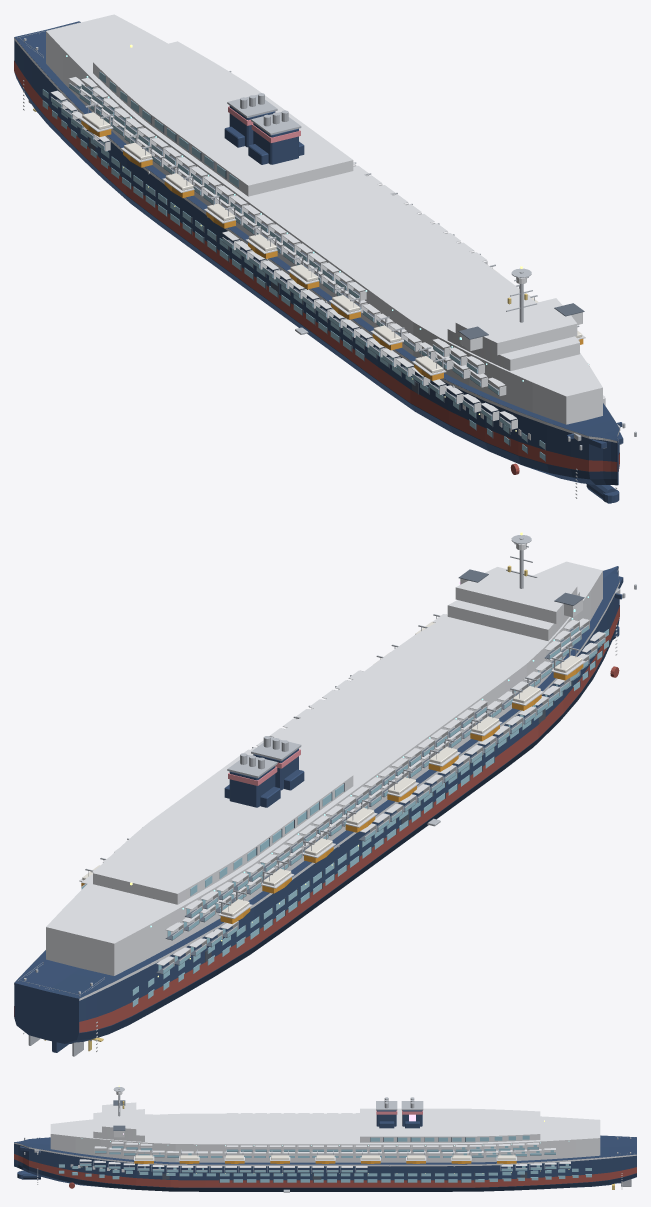
File: ship-exterior.glb
3 views of the same model, one above another, from view 1: azimuth 30°, elevation 25°; view 2: azimuth 150°, elevation 25°; view 3: azimuth 270°, elevation 25° (orthographic). The views are drawn at different scales.
Visible parts, largest first — view 1: CM_STRUCTURE_BULKHEAD, CM_STRUCTURE_HULL, CM_DRESSING_BULKHEAD, CM_DRESSING_GLASS, CM_STRUCTURE_BOOT, CM_DRESSING_STEEL, CM_DRESSING_CANVAS, CM_DRESSING_HULL, CM_DRESSING_DECK, CM_DRESSING_ORANGE, CM_DRESSING_TRIM; view 2: CM_STRUCTURE_BULKHEAD, CM_STRUCTURE_HULL, CM_DRESSING_BULKHEAD, CM_DRESSING_GLASS, CM_STRUCTURE_BOOT, CM_DRESSING_STEEL, CM_DRESSING_CANVAS, CM_DRESSING_DECK, CM_DRESSING_HULL, CM_DRESSING_ORANGE, CM_DRESSING_TRIM; view 3: CM_STRUCTURE_BULKHEAD, CM_STRUCTURE_HULL, CM_DRESSING_GLASS, CM_STRUCTURE_BOOT, CM_DRESSING_BULKHEAD, CM_DRESSING_STEEL, CM_DRESSING_CANVAS, CM_DRESSING_DECK, CM_DRESSING_HULL, CM_DRESSING_ORANGE, CM_DRESSING_TRIM.
Boxes of the visible parts, x1=… form: CM_STRUCTURE_BULKHEAD: x1=14, y1=14, x2=619, y2=442; CM_STRUCTURE_HULL: x1=14, y1=21, x2=623, y2=503; CM_DRESSING_BULKHEAD: x1=23, y1=77, x2=617, y2=498; CM_DRESSING_GLASS: x1=42, y1=71, x2=544, y2=460; CM_STRUCTURE_BOOT: x1=14, y1=61, x2=619, y2=474; CM_DRESSING_STEEL: x1=24, y1=38, x2=636, y2=450; CM_DRESSING_CANVAS: x1=82, y1=112, x2=582, y2=373; CM_DRESSING_HULL: x1=224, y1=106, x2=304, y2=164; CM_DRESSING_DECK: x1=51, y1=85, x2=511, y2=428; CM_DRESSING_ORANGE: x1=81, y1=120, x2=583, y2=380; CM_DRESSING_TRIM: x1=89, y1=116, x2=545, y2=461; CM_STRUCTURE_BULKHEAD: x1=14, y1=561, x2=619, y2=1000; CM_STRUCTURE_HULL: x1=14, y1=566, x2=623, y2=1052; CM_DRESSING_BULKHEAD: x1=23, y1=543, x2=617, y2=1051; CM_DRESSING_GLASS: x1=81, y1=625, x2=608, y2=1006; CM_STRUCTURE_BOOT: x1=14, y1=605, x2=619, y2=1032; CM_DRESSING_STEEL: x1=24, y1=535, x2=636, y2=993; CM_DRESSING_CANVAS: x1=82, y1=621, x2=582, y2=916; CM_DRESSING_DECK: x1=156, y1=627, x2=604, y2=974; CM_DRESSING_HULL: x1=224, y1=748, x2=304, y2=807; CM_DRESSING_ORANGE: x1=81, y1=664, x2=583, y2=923; CM_DRESSING_TRIM: x1=205, y1=628, x2=609, y2=962; CM_STRUCTURE_BULKHEAD: x1=14, y1=1102, x2=636, y2=1166; CM_STRUCTURE_HULL: x1=14, y1=1135, x2=636, y2=1191; CM_DRESSING_GLASS: x1=59, y1=1135, x2=591, y2=1182; CM_STRUCTURE_BOOT: x1=14, y1=1154, x2=636, y2=1188; CM_DRESSING_BULKHEAD: x1=37, y1=1091, x2=622, y2=1189; CM_DRESSING_STEEL: x1=24, y1=1087, x2=631, y2=1170; CM_DRESSING_CANVAS: x1=135, y1=1155, x2=515, y2=1159; CM_DRESSING_DECK: x1=80, y1=1146, x2=570, y2=1172; CM_DRESSING_HULL: x1=376, y1=1110, x2=422, y2=1128; CM_DRESSING_ORANGE: x1=134, y1=1161, x2=516, y2=1163; CM_DRESSING_TRIM: x1=58, y1=1137, x2=527, y2=1182.
Bounding box in the file's own units: 45.4 × 50.5 × 290.
